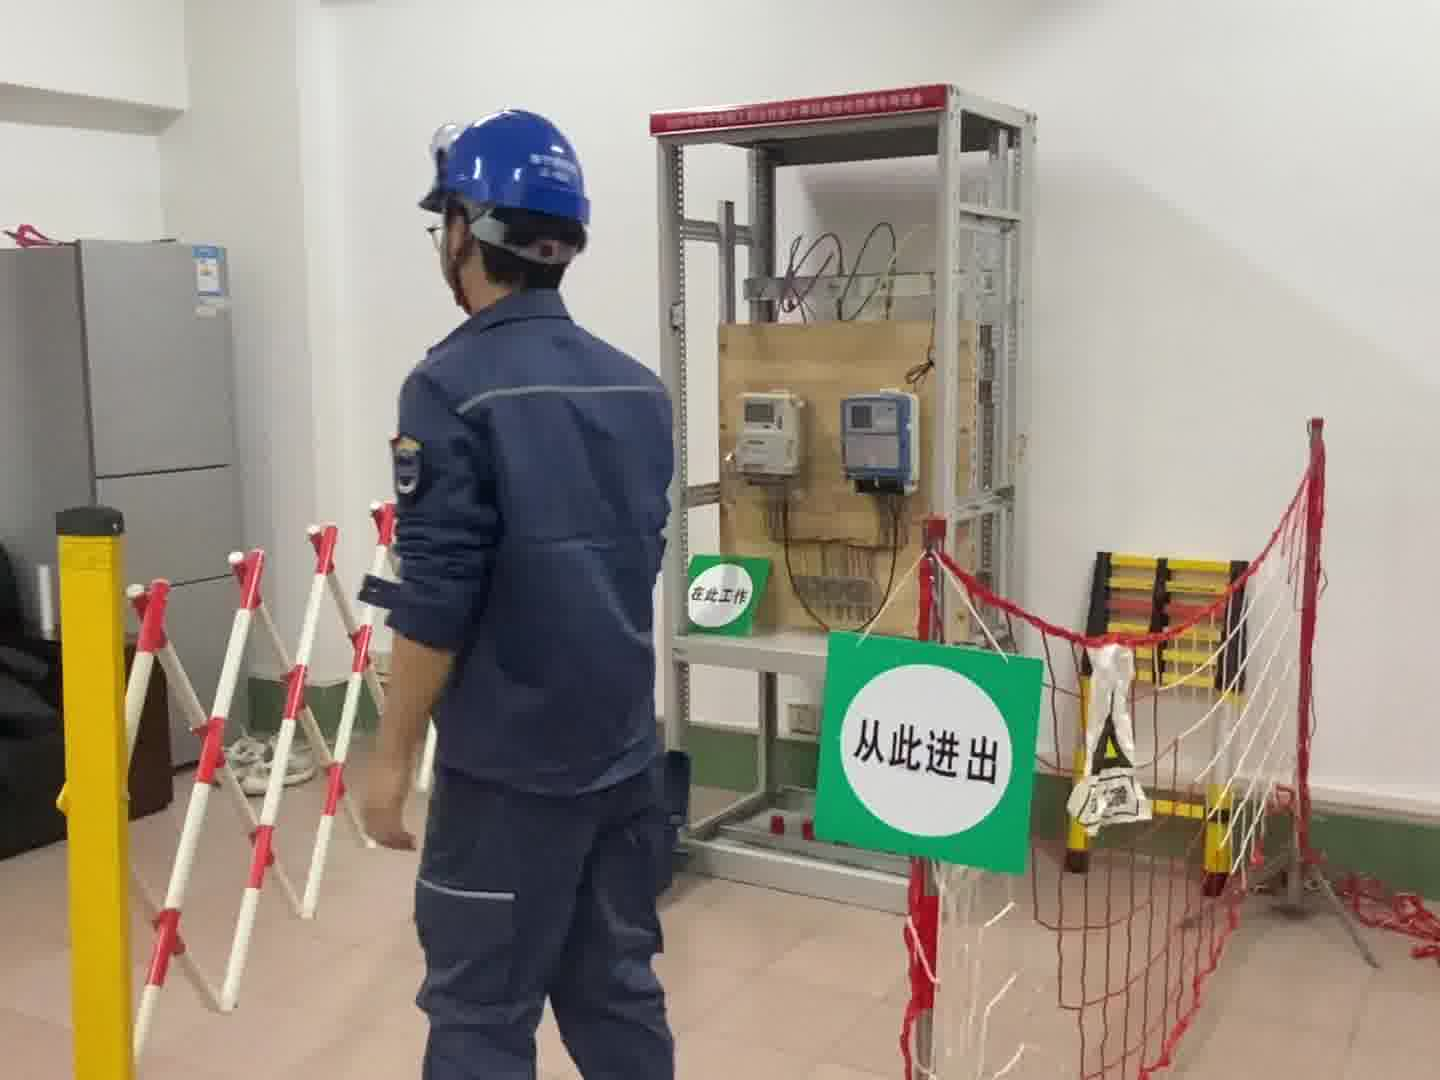downsuit: (398, 797, 694, 1080)
halt: (414, 106, 598, 311)
hand: (356, 762, 420, 856)
inear: (438, 201, 492, 310)
intosign: (806, 619, 1047, 882)
person: (359, 100, 729, 1080)
sleeve: (384, 429, 432, 505)
upsuit: (366, 298, 688, 792)
worksign: (683, 544, 775, 638)
wrongtop: (350, 604, 471, 861)
